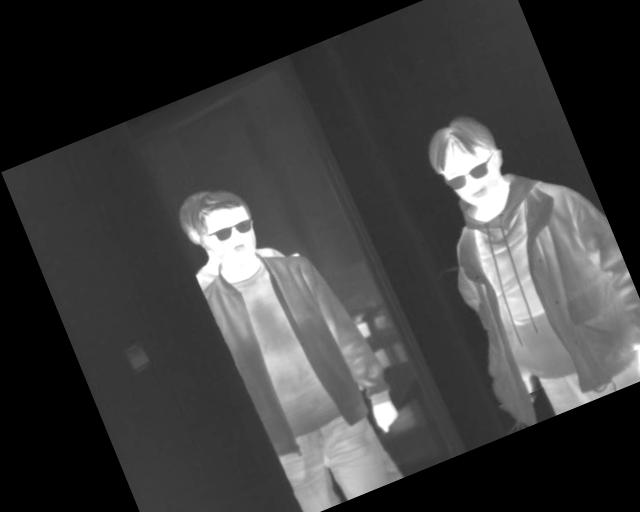face: (418, 104, 519, 219), (185, 181, 267, 278)
